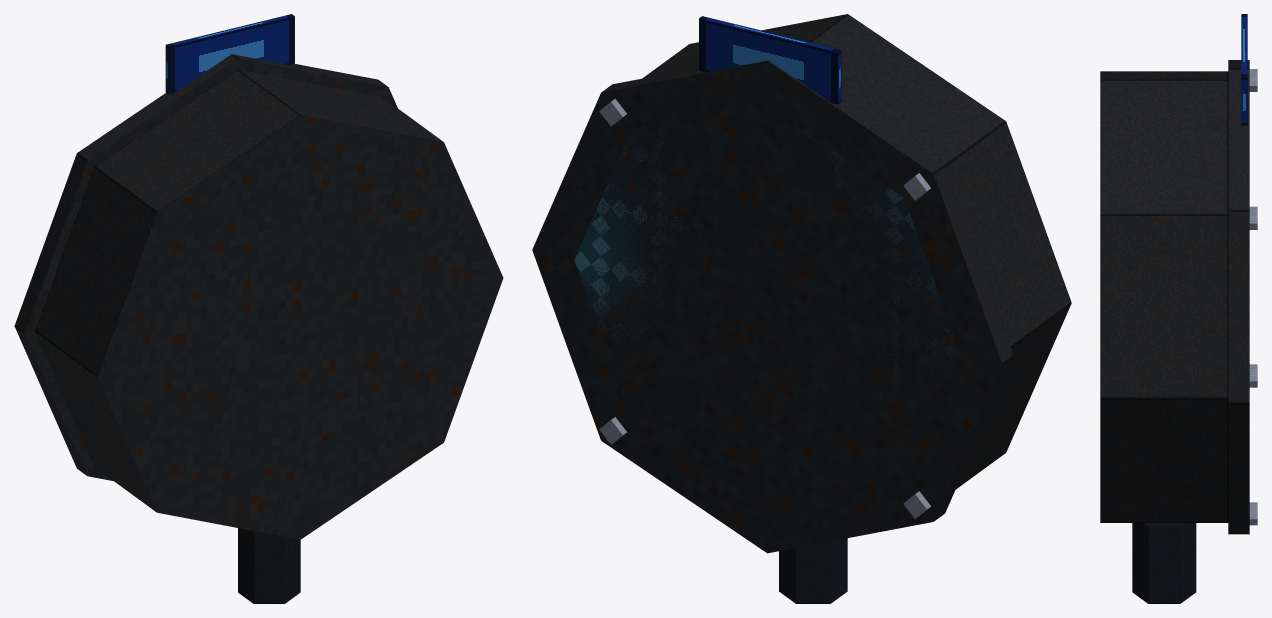
The model's file is pressure_indicator.glb.
3 views of the same model, side by side, from view 1: azimuth 30°, elevation 25°; view 2: azimuth 150°, elevation 25°; view 3: azimuth 270°, elevation 25° (orthographic). The views are drawn at different scales.
Visible parts, largest first — view 1: pressure_indicator; view 2: pressure_indicator; view 3: pressure_indicator.
Part boxes in pixels (x1,y1,x2,y2): pressure_indicator: [14, 14, 503, 603]; pressure_indicator: [532, 14, 1071, 603]; pressure_indicator: [1100, 14, 1257, 603].
Bounding box in the file's own units: 0.4725 × 0.565 × 0.1475.
Materials: 1 (1 with a texture image).
